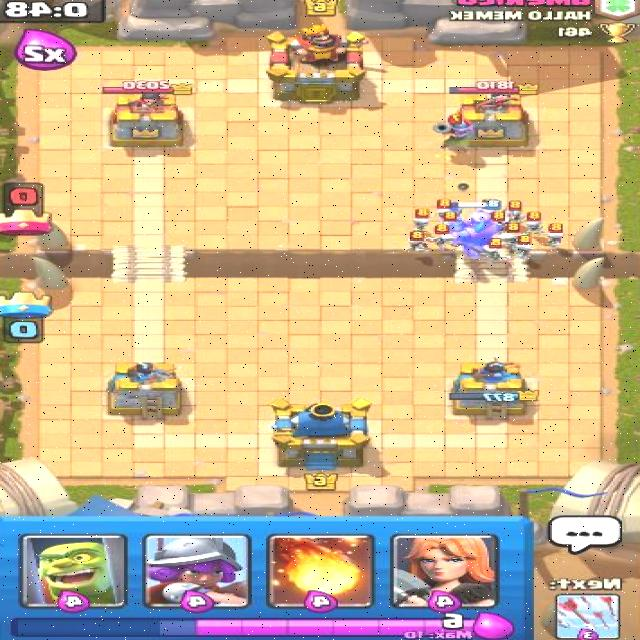Enemy-Musketeer: (432, 111, 474, 143)
Enemy-Skeleton: (543, 221, 568, 251), (408, 207, 433, 236), (512, 234, 538, 261), (500, 221, 525, 249), (482, 236, 507, 264), (404, 230, 434, 253), (432, 198, 458, 223), (522, 210, 546, 236), (502, 198, 525, 225), (430, 224, 453, 250), (483, 212, 512, 232), (437, 211, 460, 234)
Player-Prince: (439, 198, 503, 262)
